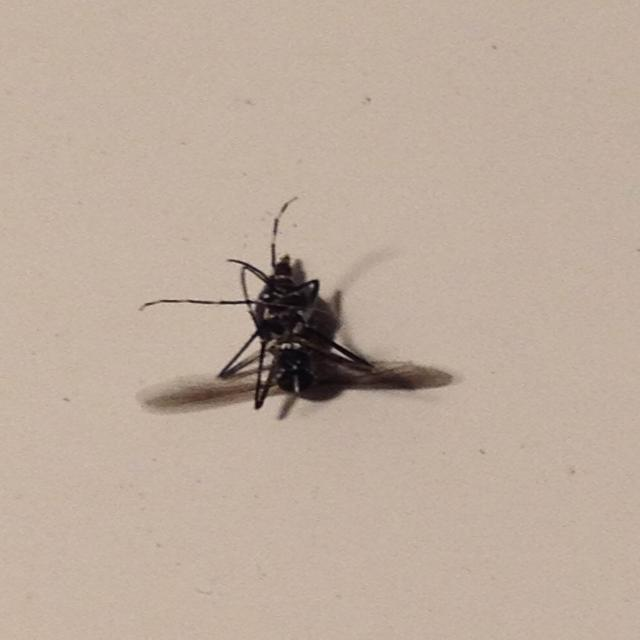albopictus: (132, 188, 410, 430)
